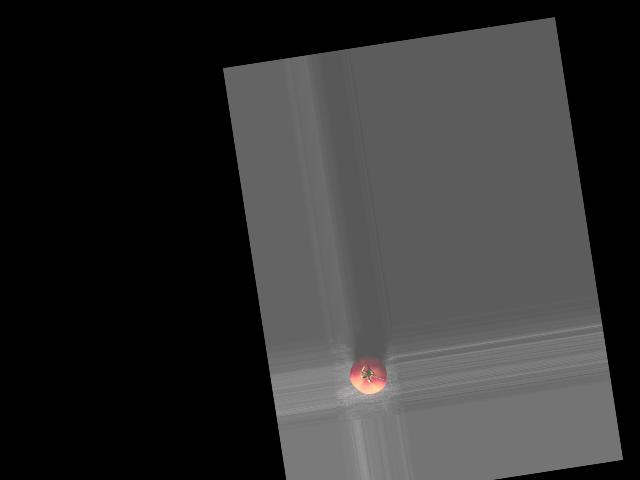tomato: (347, 354, 389, 396)
